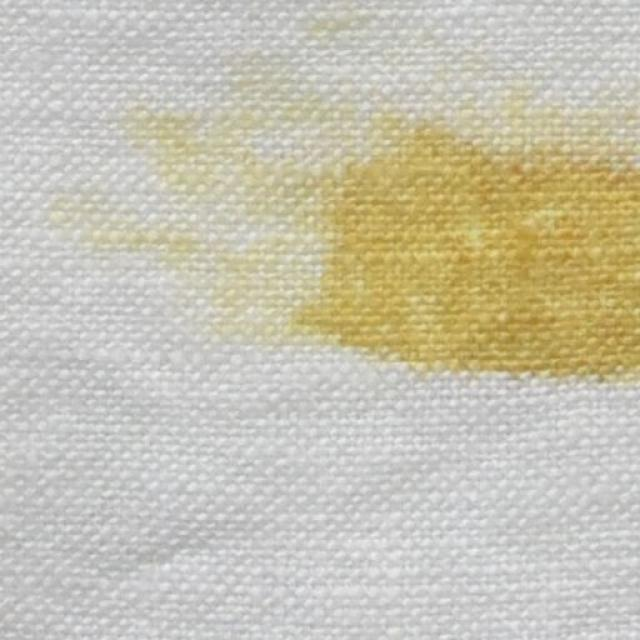Stain: (55, 54, 640, 378)
